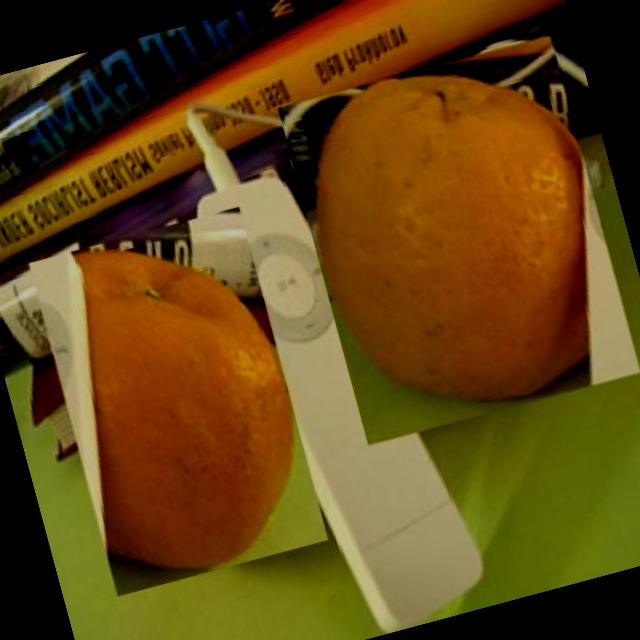Orange: (278, 34, 640, 444), (28, 206, 329, 596)
